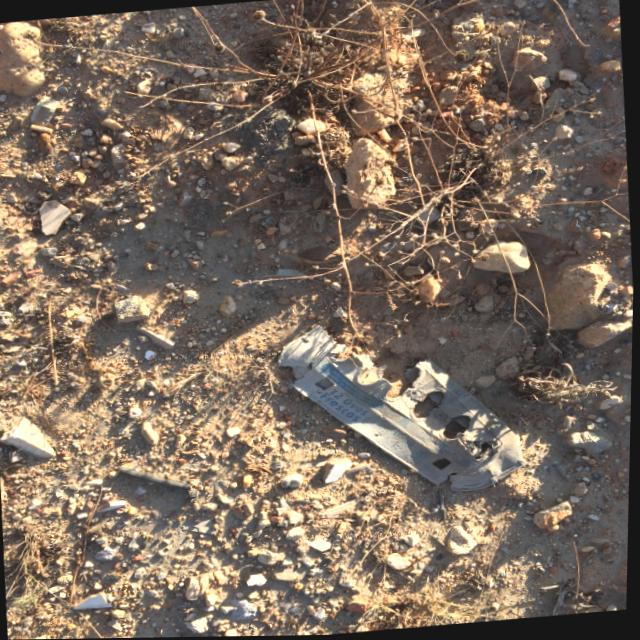Cardboard: (267, 305, 536, 511)
